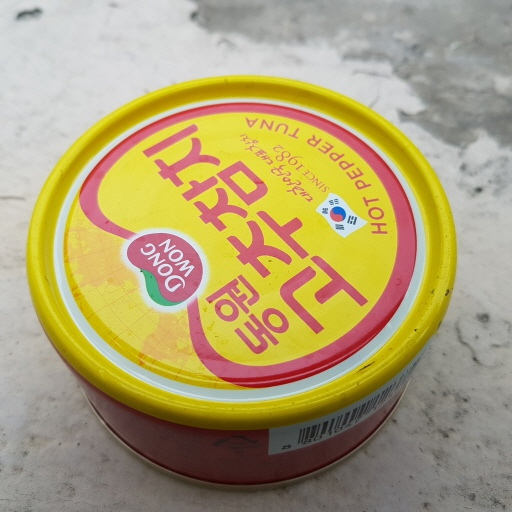Metal_1: (23, 73, 463, 495)
